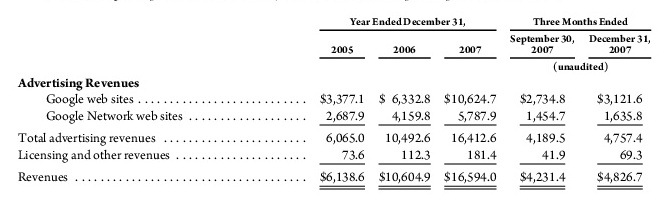table: (0, 0, 665, 207)
